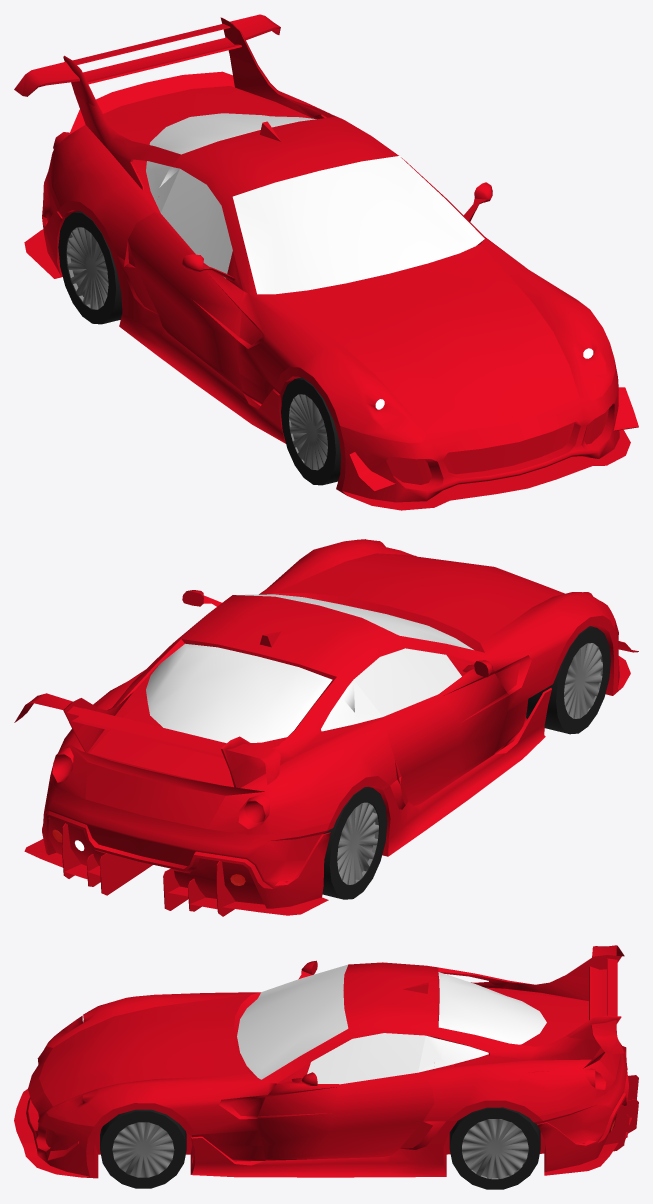
The model's file is car.glb.
3 renders of one model, top to bottom at view 1: azimuth 30°, elevation 25°; view 2: azimuth 150°, elevation 25°; view 3: azimuth 270°, elevation 25°, orthographic. The views are drawn at different scales.
Parts seen in each view (by area): view 1: polymsh_SUB0, polymsh_SUB1, g_Tyre_RR, g_Tyre_RF, g_Rim_RR, g_Rim_RF1; view 2: polymsh_SUB0, polymsh_SUB1, g_Tyre_RF, g_Tyre_RR, g_Rim_RR, g_Rim_RF1; view 3: polymsh_SUB0, polymsh_SUB1, g_Rim_LR, g_Tyre_LR, g_Tyre_LF, g_Rim_LF1.
Boxes of the visible parts, box(x1,y1,x2,y2) form: polymsh_SUB0: box(14, 14, 638, 510); polymsh_SUB1: box(146, 113, 484, 294); g_Tyre_RR: box(58, 211, 122, 324); g_Tyre_RF: box(281, 377, 340, 485); g_Rim_RR: box(67, 227, 108, 309); g_Rim_RF1: box(288, 394, 327, 470); polymsh_SUB0: box(14, 539, 638, 916); polymsh_SUB1: box(146, 594, 473, 743); g_Tyre_RF: box(526, 626, 610, 734); g_Tyre_RR: box(322, 787, 387, 899); g_Rim_RR: box(337, 802, 378, 884); g_Rim_RF1: box(564, 643, 602, 718); polymsh_SUB0: box(14, 945, 638, 1178); polymsh_SUB1: box(237, 964, 546, 1084); g_Rim_LR: box(462, 1119, 528, 1179); g_Tyre_LR: box(449, 1107, 540, 1189); g_Tyre_LF: box(100, 1109, 186, 1188); g_Rim_LF1: box(112, 1122, 174, 1177).
Size of the model in its own units: 2.18 by 1.33 by 4.89.
